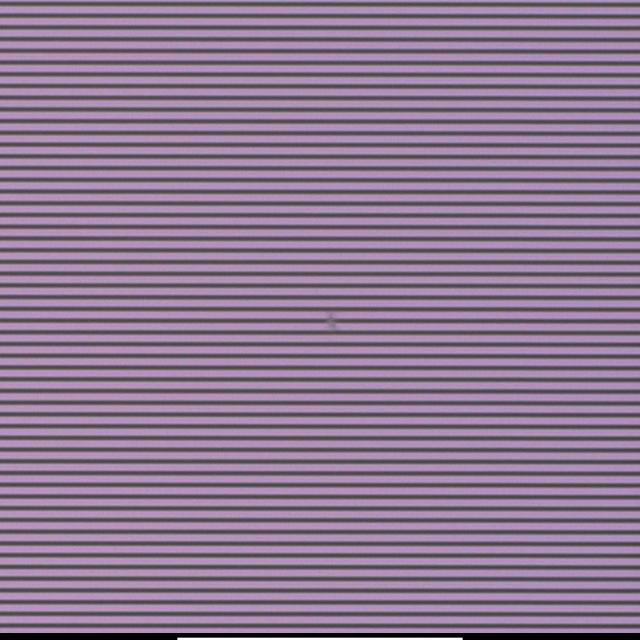nonvisual: (324, 311, 342, 335)
